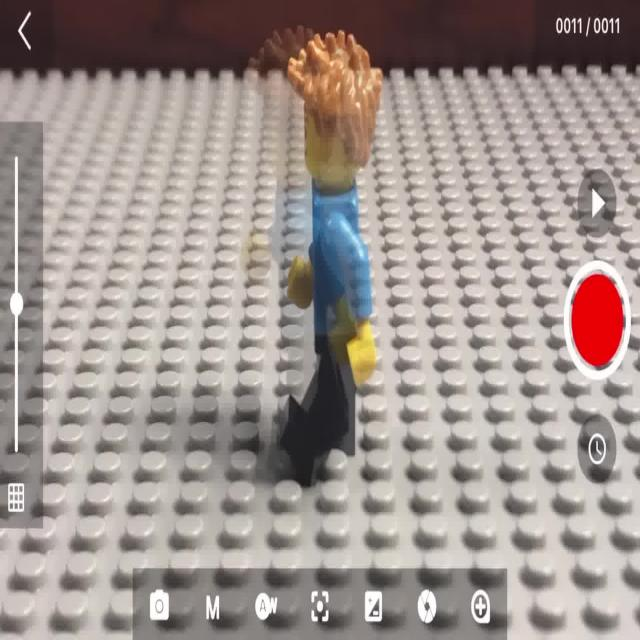4: (323, 225, 380, 383), (286, 246, 314, 318)
hand: (279, 36, 382, 495)
